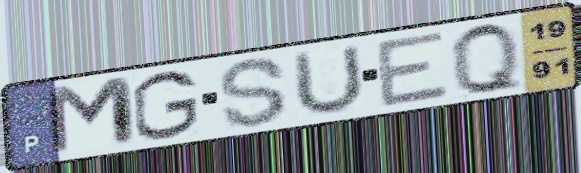E: (373, 27, 454, 110)
G: (128, 68, 202, 143)
M: (43, 73, 141, 159)
Q: (447, 20, 528, 97)
S: (216, 55, 290, 130)
U: (291, 41, 367, 120)
